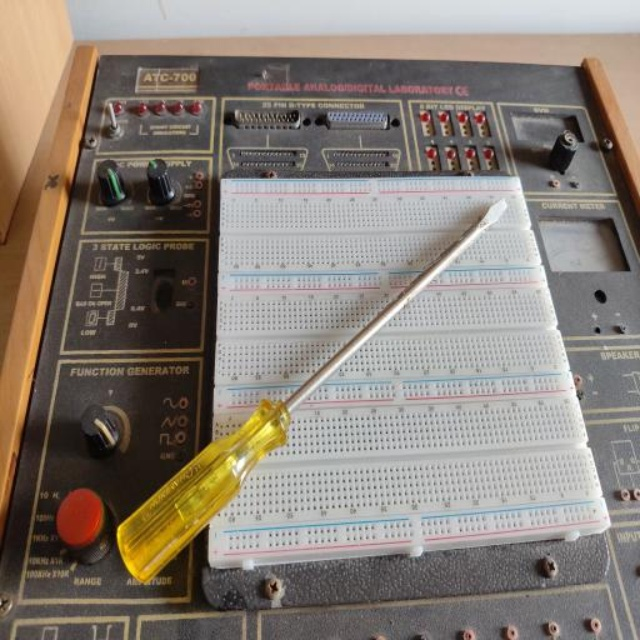screwdriver: (114, 195, 510, 588)
